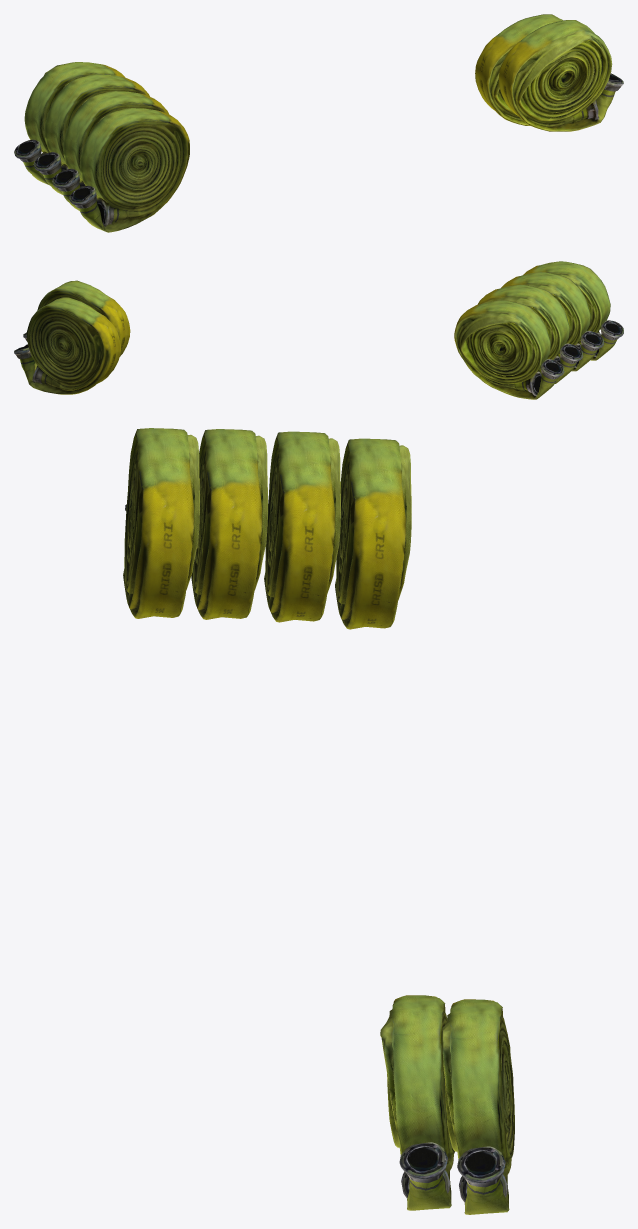
Rendered from Hose.glb.
3 renders of one model, top to bottom at view 1: azimuth 30°, elevation 25°; view 2: azimuth 150°, elevation 25°; view 3: azimuth 270°, elevation 25°, orthographic. The views are drawn at different scales.
Visible parts, largest first — view 1: Object_2.002, Object_2.005; view 2: Object_2.002, Object_2.005; view 3: Object_2.002, Object_2.005.
Boxes of the visible parts, x1,y1,x2,y2 form: Object_2.002: (14, 62, 189, 232); Object_2.005: (475, 14, 623, 131); Object_2.002: (454, 261, 623, 399); Object_2.005: (14, 280, 130, 394); Object_2.002: (123, 428, 411, 629); Object_2.005: (380, 995, 514, 1214).
Size of the model in its own units: 19.58 by 6.1 by 6.28.
Materials: 1 (1 with a texture image).
